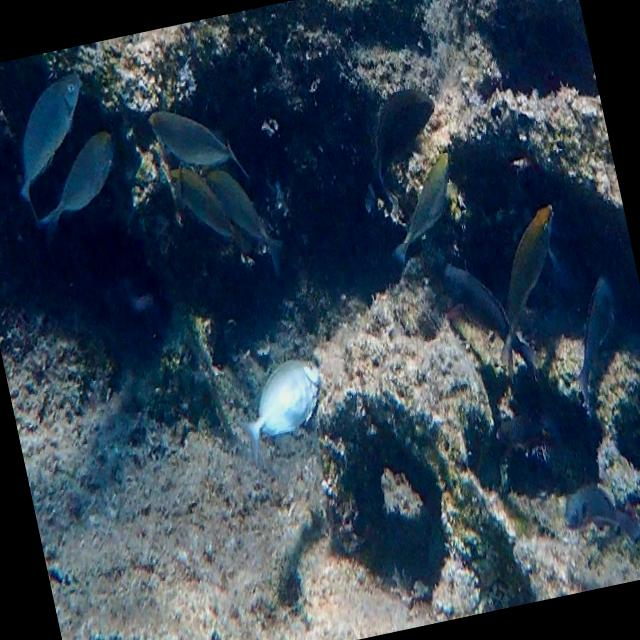Sokar Baligi: (460, 176, 600, 394), (342, 42, 472, 220), (0, 53, 109, 213)
